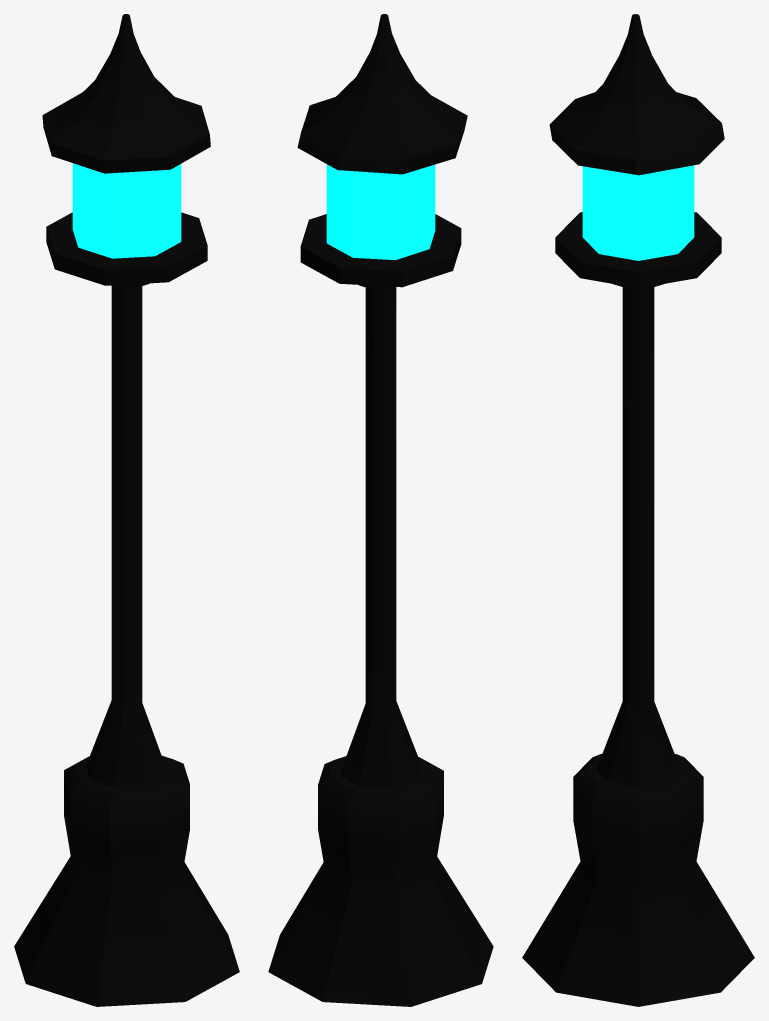
Rendered from lamp.fbx.
The picture shows the model from 3 angles, left to right: view 1: azimuth 30°, elevation 25°; view 2: azimuth 150°, elevation 25°; view 3: azimuth 270°, elevation 25°; orthographic projection.
Visible parts, largest first — view 1: Cylinder; view 2: Cylinder; view 3: Cylinder.
Boxes of the visible parts, x1=… form: Cylinder: x1=14, y1=14, x2=239, y2=1006; Cylinder: x1=268, y1=14, x2=493, y2=1006; Cylinder: x1=522, y1=14, x2=754, y2=1006.
Size of the model in its own units: 358 by 1595 by 358.
